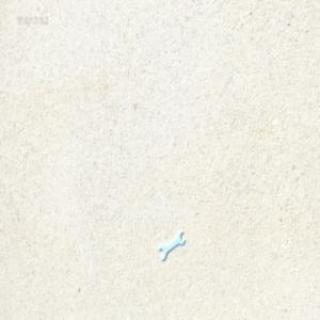Wrenchtrack_idkeyframe: (158, 231, 184, 262)
